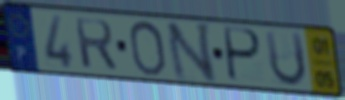4: (42, 12, 75, 70)
N: (163, 21, 219, 84)
O: (127, 19, 168, 78)
P: (223, 25, 264, 85)
R: (72, 16, 120, 73)
U: (262, 28, 309, 89)
